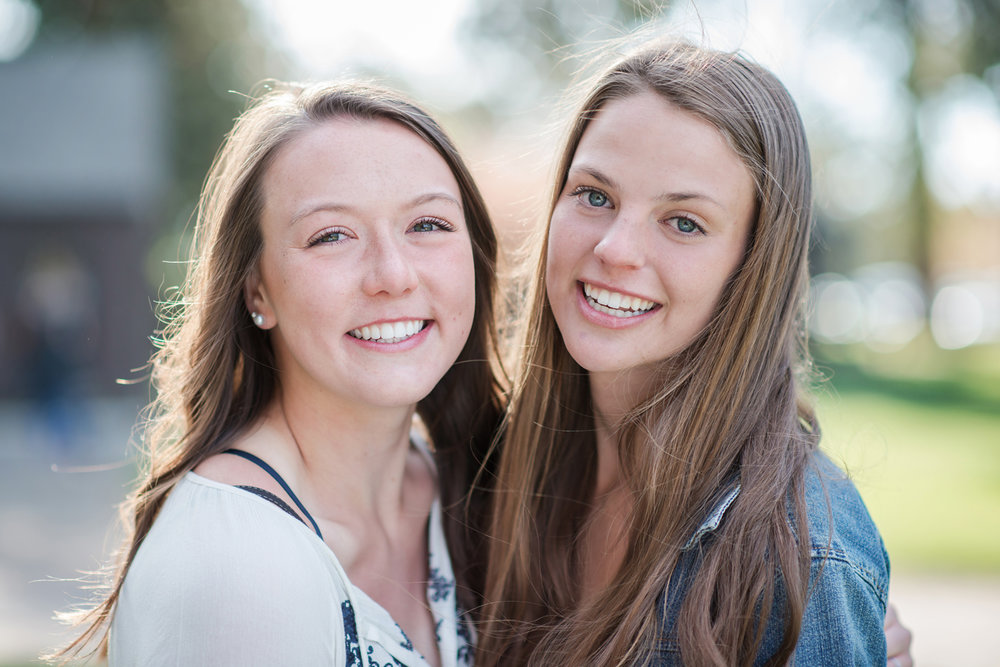bare: (264, 264, 486, 404), (546, 241, 711, 371)
